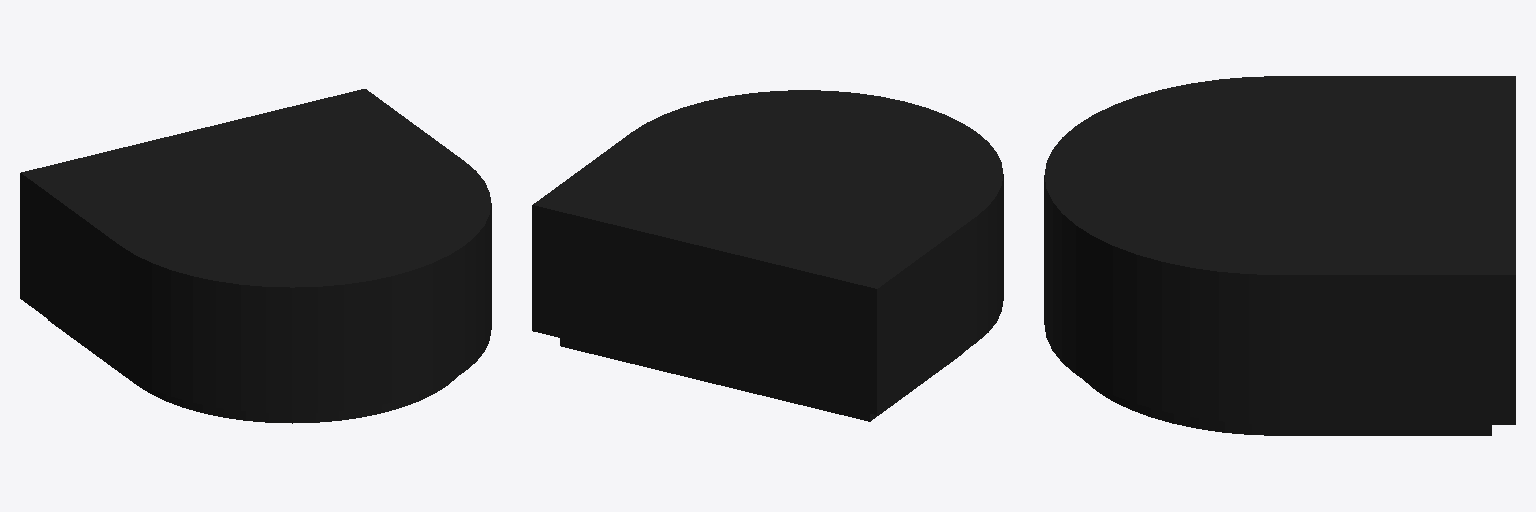
robot.urdf — 24246__trans_black:
<?xml version="1.0"?>
<robot name="24246__trans_black">
  <link name="24246__trans_black">
    <inertial>
      <origin xyz="-0.000000 0.000406 -0.001377" rpy="0 0 0"/>
      <mass value="0.000153"/>
      <inertia ixx="9.036803499e-10" ixy="8.692770639e-27" ixz="-7.147934925e-27" iyy="9.288905091e-10" iyz="4.135112173e-12" izz="1.597359465e-09"/>
    </inertial>
    <visual>
      <geometry>
        <mesh filename="../meshes/visual/24246.obj" scale="1 1 1"/>
      </geometry>
      <material name="24246__trans_black_color">
        <color rgba="0.150 0.150 0.150 0.400"/>
      </material>
    </visual>
    <collision>
      <geometry>
        <mesh filename="../meshes/collision/24246_hull.obj" scale="1 1 1"/>
      </geometry>
    </collision>
  </link>
</robot>

--- Facts derived from the render (not from the file) ---
3 views of the same robot in one strip: view 1: azimuth 30°, elevation 25°; view 2: azimuth 150°, elevation 25°; view 3: azimuth 270°, elevation 25° (orthographic).
Model 24246__trans_black with 1 links and 0 joints (none), rooted at 24246__trans_black, posed all joints at 0.
Visible links, largest first — view 1: 24246__trans_black; view 2: 24246__trans_black; view 3: 24246__trans_black.
Boxes of the visible links, x1=… form: 24246__trans_black: x1=20, y1=89, x2=491, y2=423; 24246__trans_black: x1=532, y1=90, x2=1003, y2=421; 24246__trans_black: x1=1044, y1=76, x2=1515, y2=435.
Size in the robot's own frame: 0.008 by 0.008 by 0.0032 metres.
Meshes: 1 distinct files referenced, 1 mesh visuals loaded (1 OBJ).
